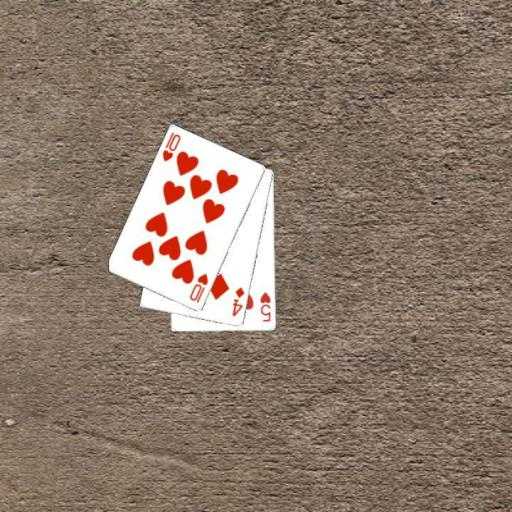10H: (186, 271, 210, 305), (159, 130, 183, 164)
4D: (229, 284, 246, 318)
5H: (258, 290, 273, 324)
